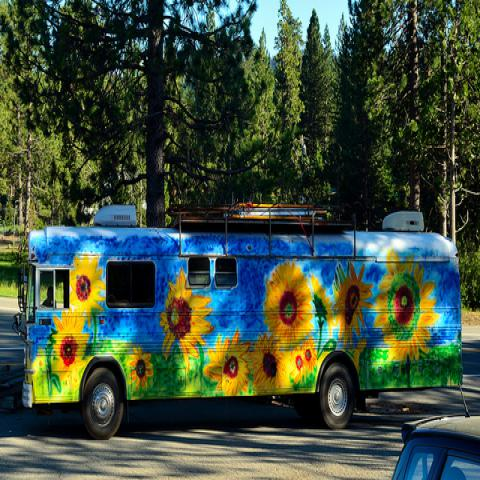bus: (24, 204, 460, 442)
car: (394, 381, 480, 479)
